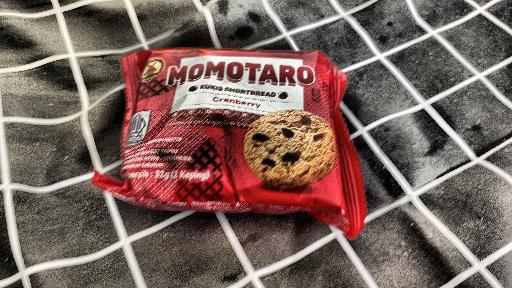momotaro: (93, 10, 399, 230)
